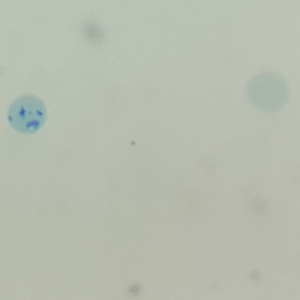aggregate reticulocyte: (5, 94, 48, 136)
erythrocyte: (244, 70, 292, 113)
